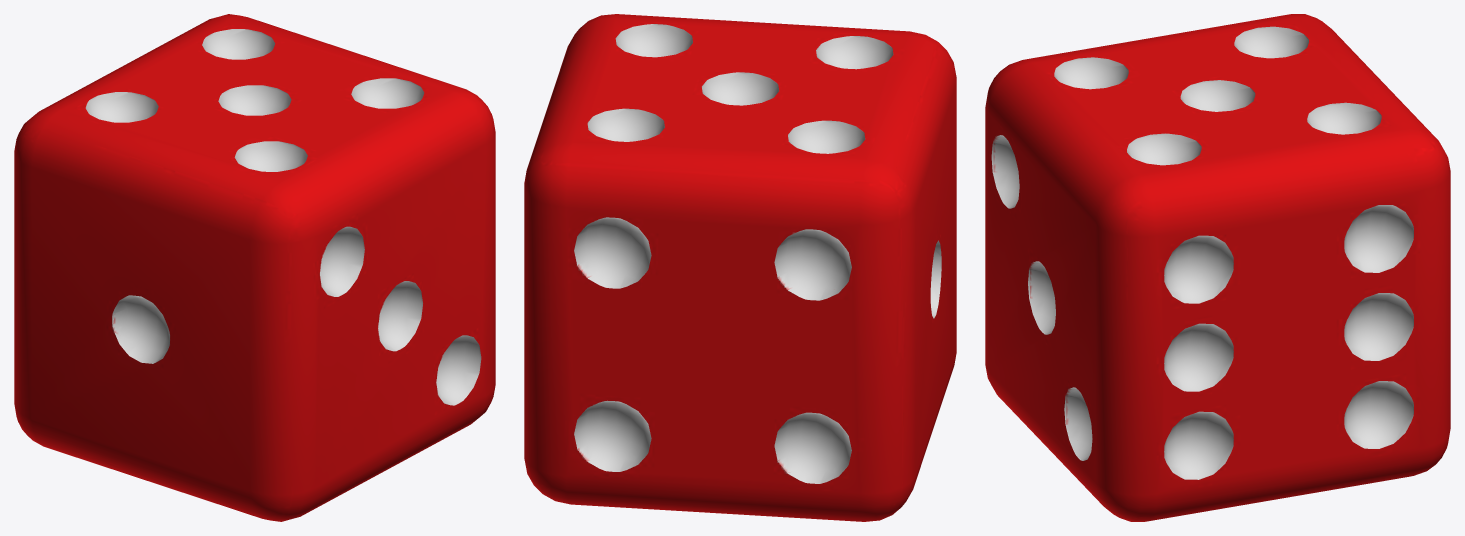
Rendered from dice.glb.
3 views of the same model, side by side, from view 1: azimuth 30°, elevation 25°; view 2: azimuth 150°, elevation 25°; view 3: azimuth 270°, elevation 25° (orthographic). The views are drawn at different scales.
Parts seen in each view (by area): view 1: red_d6_body; view 2: red_d6_body; view 3: red_d6_body.
Part boxes in pixels (box(x1,y1,x2,y2)): red_d6_body: box(14, 14, 495, 521); red_d6_body: box(524, 14, 956, 521); red_d6_body: box(985, 14, 1450, 521).
Bounding box in the file's own units: 0.0196 × 0.016 × 0.0196.
1 material, 1 textured.
